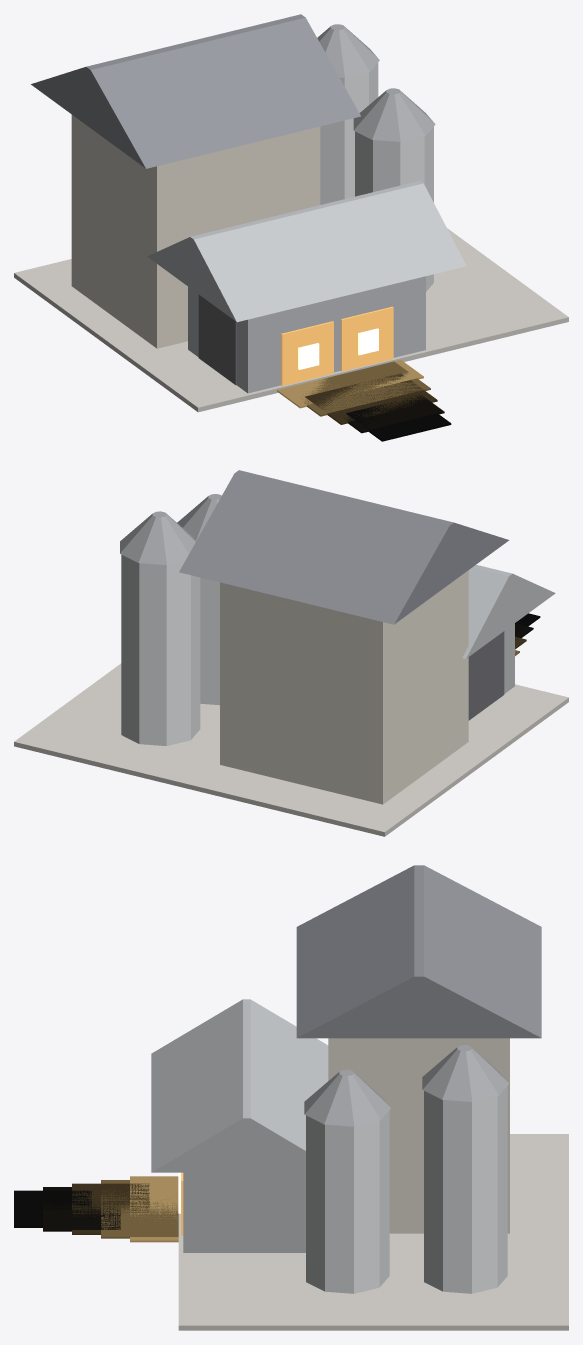
File: plc_mill.glb
The picture shows the model from 3 angles, top to bottom: view 1: azimuth 30°, elevation 25°; view 2: azimuth 150°, elevation 25°; view 3: azimuth 270°, elevation 25°; orthographic projection. The views are drawn at different scales.
Parts seen in each view (by area): view 1: plc_mill; view 2: plc_mill; view 3: plc_mill.
Boxes of the visible parts, x1,y1,x2,y2 form: plc_mill: (14, 14, 568, 441); plc_mill: (14, 470, 568, 836); plc_mill: (14, 865, 568, 1330).
Size of the model in its own units: 1.7 by 1.14 by 2.08.
